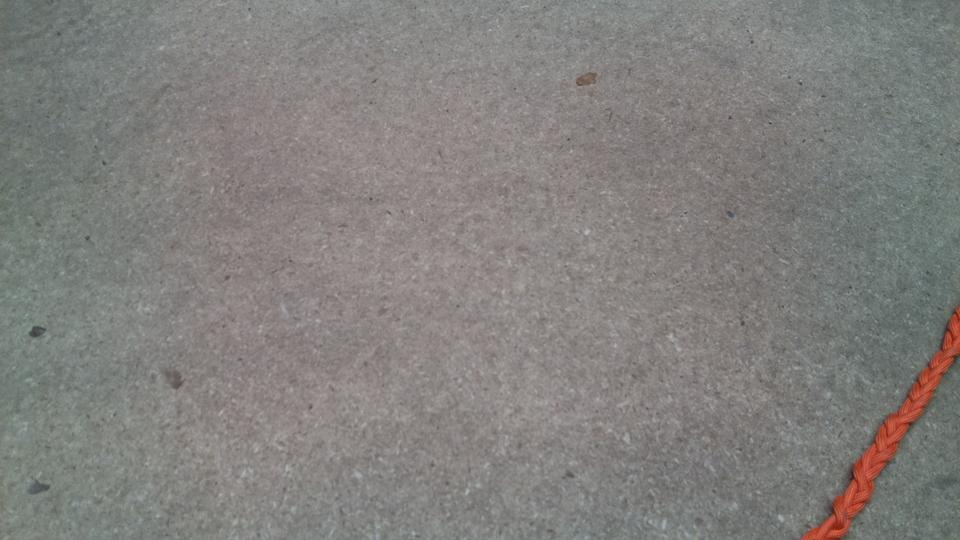rope: (821, 329, 958, 540)
